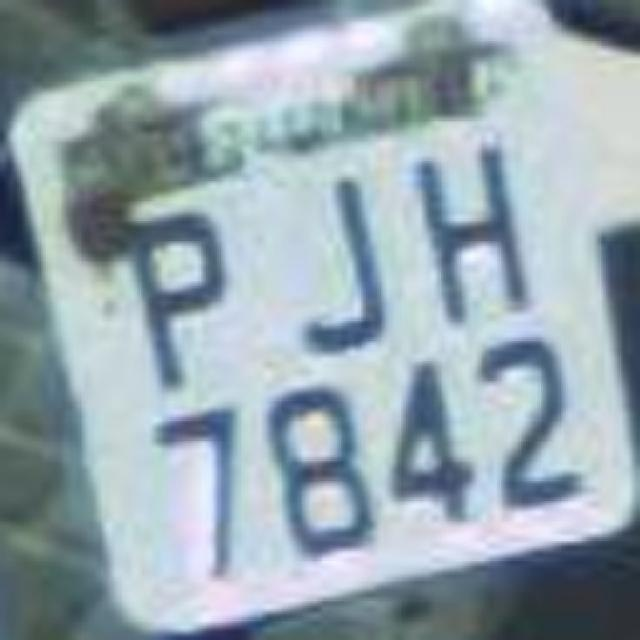2: (452, 295, 600, 520)
4: (356, 332, 496, 532)
7: (128, 392, 272, 596)
8: (256, 360, 392, 572)
H: (395, 136, 540, 324)
P: (100, 200, 248, 400)
